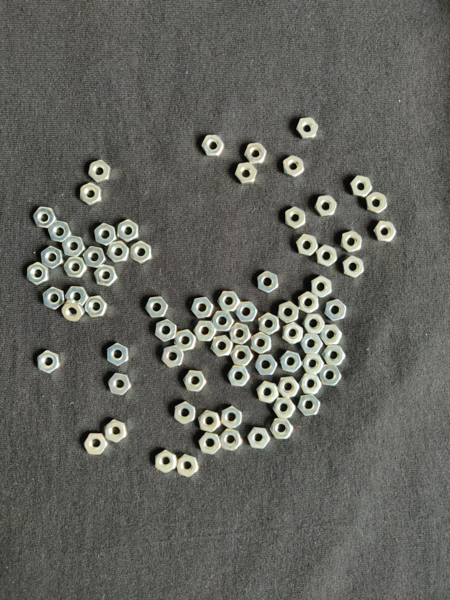nut: (88, 159, 112, 183), (176, 454, 199, 478), (108, 373, 132, 396), (183, 370, 207, 393), (37, 350, 60, 374), (161, 345, 185, 368), (27, 262, 50, 286), (33, 206, 57, 229), (269, 418, 294, 440), (219, 429, 242, 452), (211, 335, 234, 358), (84, 295, 107, 318), (42, 287, 65, 310), (107, 241, 130, 264), (296, 234, 319, 257), (84, 433, 108, 455), (155, 450, 177, 474), (107, 343, 129, 367), (155, 319, 177, 343), (145, 296, 169, 318), (258, 312, 280, 336), (94, 265, 118, 287), (64, 257, 88, 279), (62, 235, 86, 257), (48, 221, 72, 243), (201, 135, 225, 157), (105, 420, 127, 443), (199, 433, 221, 456), (248, 428, 271, 450), (198, 411, 221, 433), (174, 402, 196, 425), (298, 395, 321, 417), (257, 381, 279, 404), (280, 351, 303, 373), (191, 297, 214, 319), (282, 322, 304, 345), (257, 271, 279, 294), (325, 300, 348, 322), (62, 300, 85, 322), (42, 246, 64, 269), (94, 224, 117, 246), (343, 256, 365, 279), (374, 221, 397, 243), (283, 155, 305, 178), (83, 247, 107, 268), (285, 206, 306, 230), (253, 355, 278, 375), (278, 377, 300, 399), (175, 330, 197, 352), (229, 323, 251, 345), (341, 231, 363, 253), (366, 192, 388, 214), (297, 117, 319, 139), (221, 406, 242, 429), (299, 374, 322, 395), (227, 366, 250, 387), (319, 365, 342, 386), (323, 345, 346, 366), (194, 321, 217, 342), (251, 332, 272, 355), (212, 311, 235, 332), (301, 334, 324, 355), (278, 301, 299, 324), (235, 301, 258, 322), (218, 291, 241, 312), (131, 241, 152, 264), (317, 245, 338, 268), (315, 196, 338, 217), (350, 176, 373, 197), (235, 163, 258, 184), (65, 286, 89, 306), (231, 345, 253, 366), (299, 292, 320, 314), (311, 276, 332, 298), (80, 183, 101, 205), (245, 143, 267, 164), (273, 398, 296, 418), (320, 325, 343, 345), (303, 314, 326, 334), (303, 354, 325, 374)
